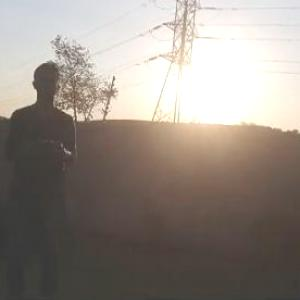follow: (0, 55, 85, 299)
